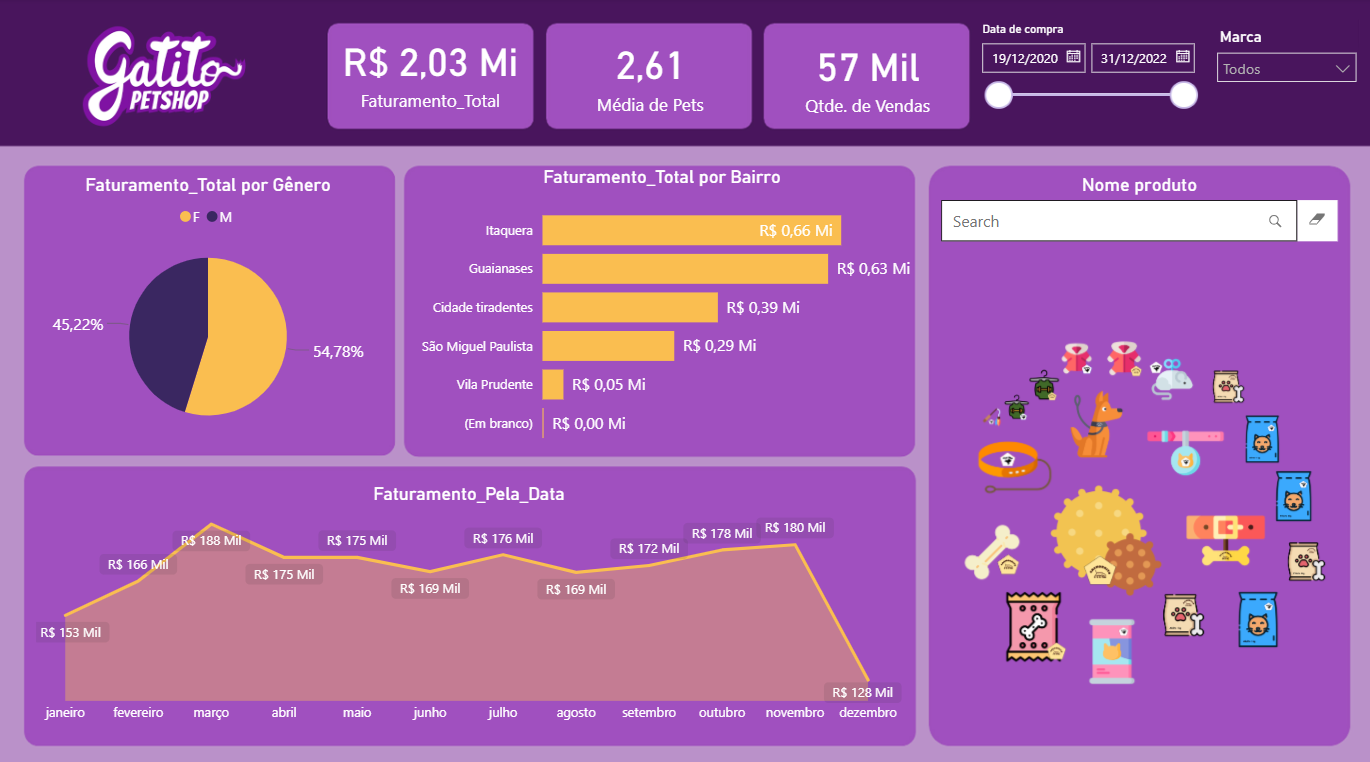

What the dashboard file says about the page in this screenshot:
{"tool":"powerbi","page":{"name":"Página 1","canvas":[1280,720],"ordinal":0},"visuals":[{"type":"card","fields":{"Values":["Avg(Clientes.Pets)"]},"box":[511.2,21.6,194.4,96.5],"z":0},{"type":"card","fields":{"Values":["Sum(Vendas.Quantidade)"]},"box":[717.1,21.6,187.2,99.4],"z":1000},{"type":"card","fields":{"Values":["Vendas.Faturamento_Total"]},"box":[309.6,18,190.1,99.4],"z":2000},{"type":"pieChart","fields":{"Category":["Clientes.Gênero"],"Y":["Vendas.Faturamento_Total"]},"box":[33.1,164.2,329.8,253.4],"z":3000},{"type":"clusteredBarChart","fields":{"Category":["Clientes.Bairro"],"Y":["Vendas.Faturamento_Total"]},"box":[382.8,156.3,474.1,273.9],"z":4000},{"type":"areaChart","title":"Faturamento_Pela_Data","fields":{"Category":["Vendas.Data de compra.Variation.Hierarquia de datas.Ano","Vendas.Data de compra.Variation.Hierarquia de datas.Trimestre","Vendas.Data de compra.Variation.Hierarquia de datas.Mês","Vendas.Data de compra.Variation.Hierarquia de datas.Dia"],"Y":["Vendas.Faturamento_Total"]},"box":[33.1,450.7,815,231.8],"z":5000},{"type":"ImageGrid_FC5183B9_926C_45E0_B5F7_0CE9EAF1DA9B","fields":{"ImageURL":["Produtos.Url img"]},"box":[874.1,265,390.2,427.7],"z":6000},{"type":"textFilter25A4896A83E0487089E2B90C9AE57C8A","fields":{"field":["Produtos.Nome produto"]},"box":[874.1,164.2,378.7,92.2],"z":7000},{"type":"slicer","fields":{"Values":["Produtos.Marca"]},"box":[1126.1,21.6,149.8,89.3],"z":8000},{"type":"slicer","fields":{"Values":["Vendas.Data de compra"]},"box":[904.3,17.3,221.8,99.4],"z":9000},{"type":"shape","box":[17.3,15.8,53.3,110.9],"z":10000}]}

Visuals, with their boxes in screenshot pixels (x1, y1, x2, y2), scaled from the page's 1280x720 canvas onto the 1370x762 screenshot:
card - Avg(Clientes.Pets): crop(547, 23, 755, 125)
card - Sum(Vendas.Quantidade): crop(768, 23, 968, 128)
card - Vendas.Faturamento_Total: crop(331, 19, 535, 124)
pieChart - Clientes.Gênero x Vendas.Faturamento_Total: crop(35, 174, 388, 442)
clusteredBarChart - Clientes.Bairro x Vendas.Faturamento_Total: crop(410, 165, 917, 455)
"Faturamento_Pela_Data" areaChart: crop(35, 477, 908, 722)
ImageGrid_FC5183B9_926C_45E0_B5F7_0CE9EAF1DA9B - Produtos.Url img: crop(936, 280, 1353, 733)
textFilter25A4896A83E0487089E2B90C9AE57C8A - Produtos.Nome produto: crop(936, 174, 1341, 271)
slicer - Produtos.Marca: crop(1205, 23, 1366, 117)
slicer - Vendas.Data de compra: crop(968, 18, 1205, 124)
shape: crop(19, 17, 76, 134)
